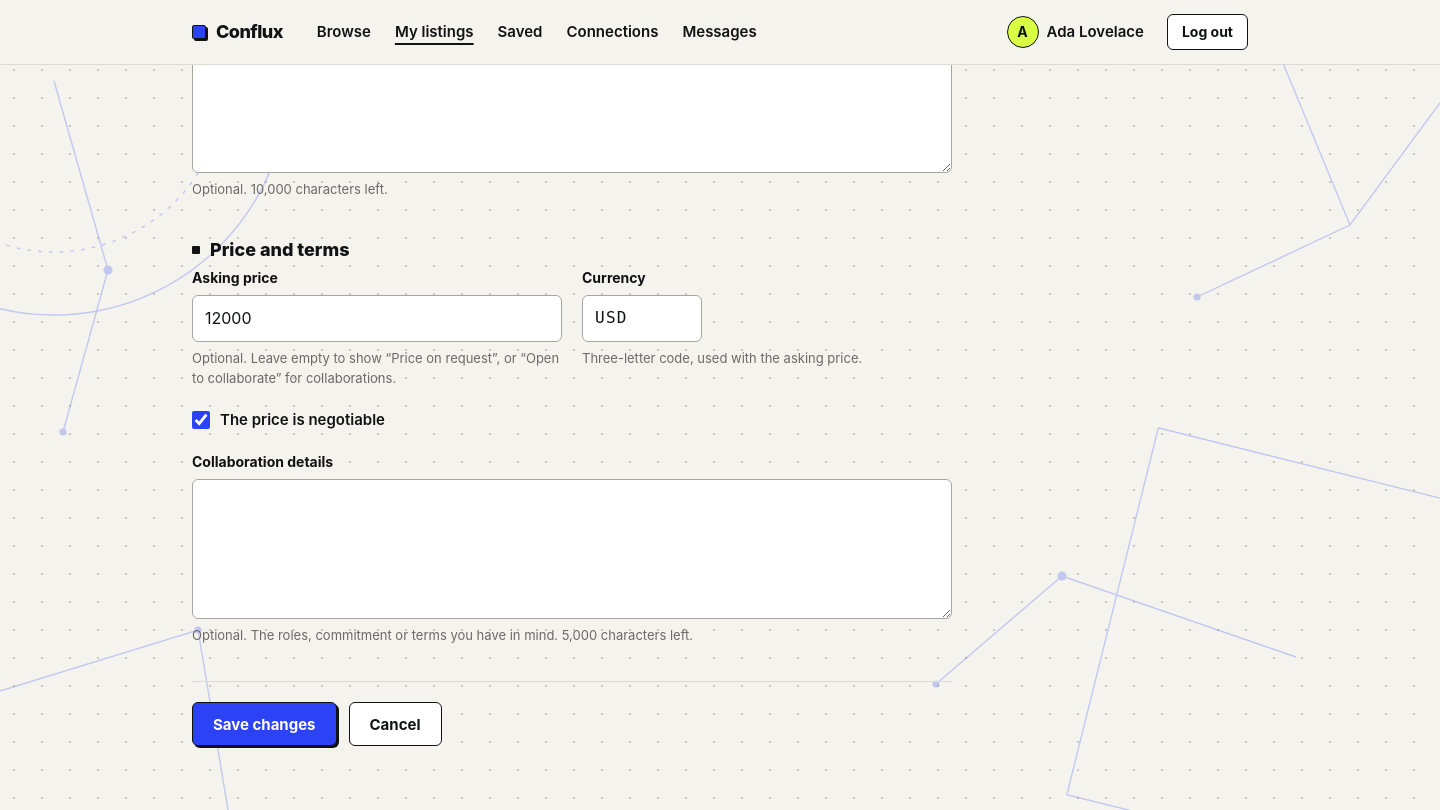
Edit listing › handles a 409 on save: re-reads the listing and explains that nothing was saved
The image size is (1440, 810).
(page scrolled)
Click the button "Save changes" at (264, 724), box [192,702,336,746]
(page scrolled)
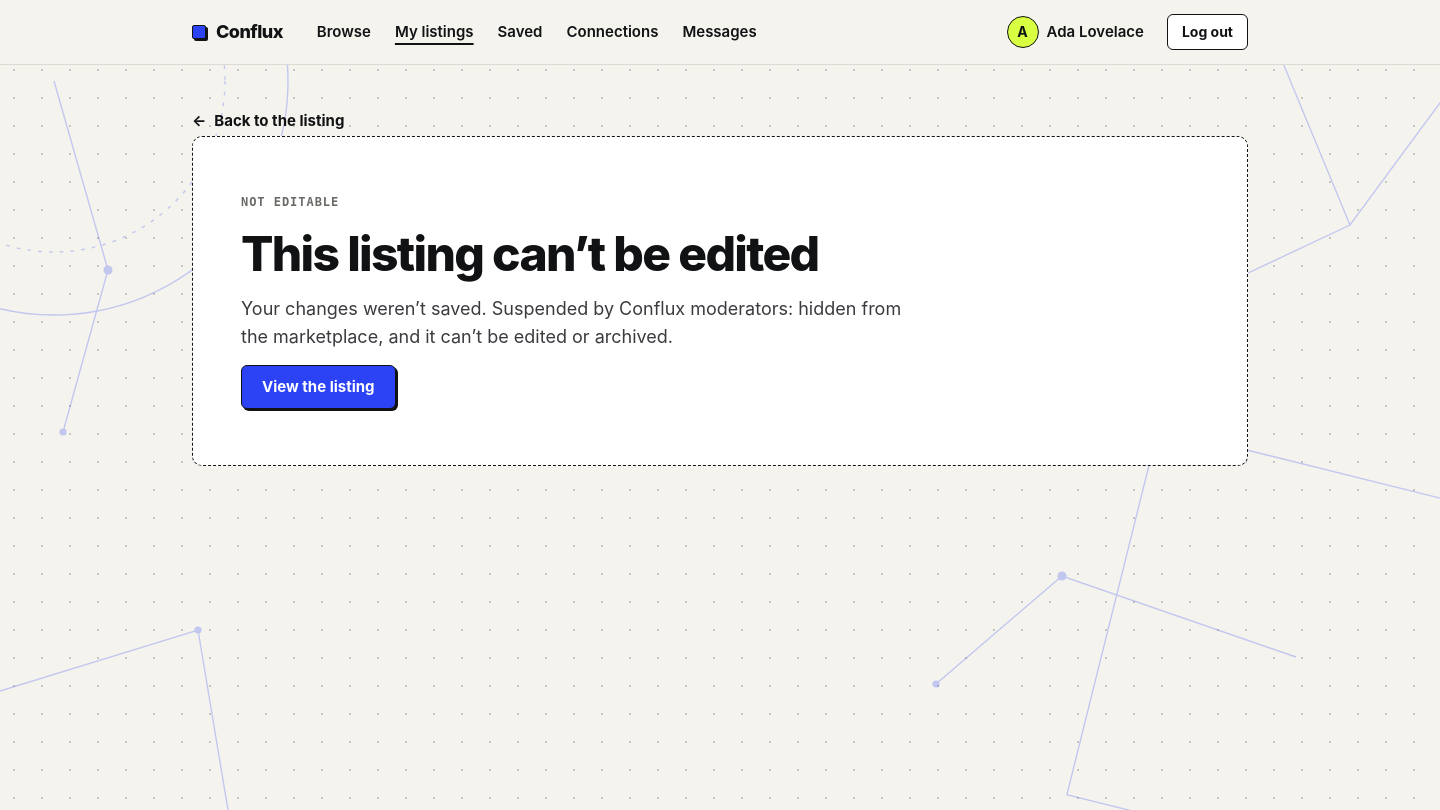
Result: the heading "This listing can’t be edited" is shown at [241,226,818,281]
Result: the text "Your changes weren’t saved." is shown at [241,298,492,319]
Result: the text "Suspended by Conflux moderators" is shown at [241,298,901,347]
